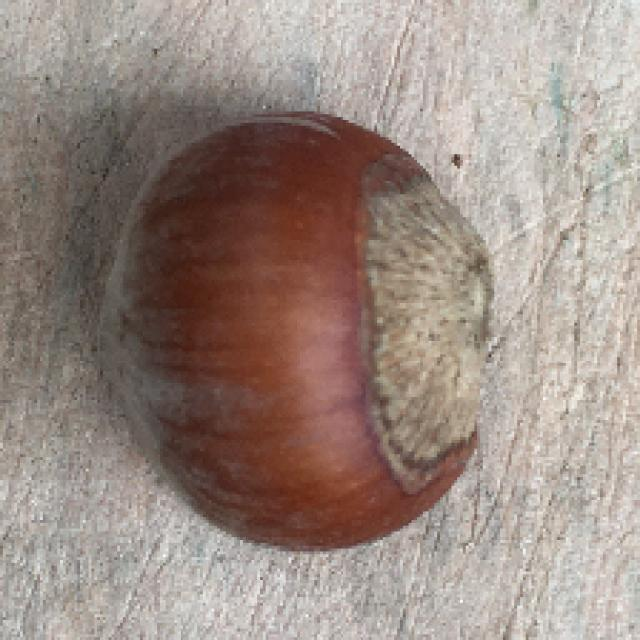hazelnut: (83, 103, 498, 569)
